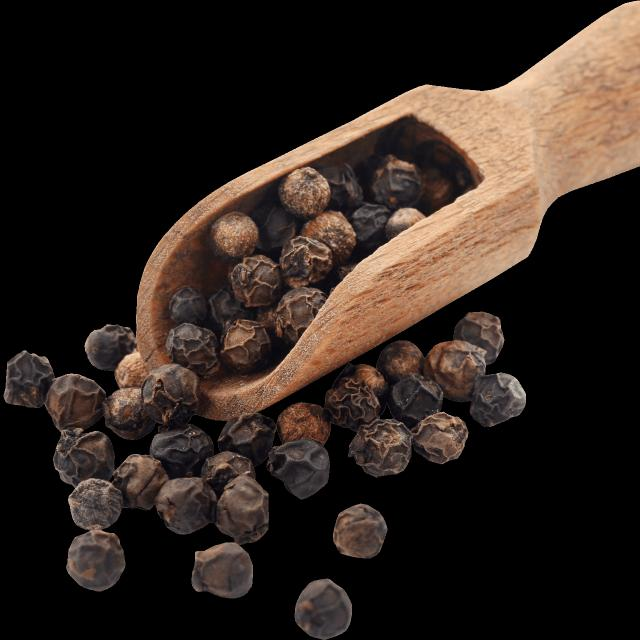Black pepper: (111, 452, 212, 538), (425, 310, 518, 393), (62, 520, 140, 605), (207, 470, 283, 547), (267, 158, 350, 228), (132, 367, 218, 433), (316, 496, 402, 562), (36, 362, 112, 435), (183, 535, 260, 605), (343, 414, 415, 488), (316, 362, 396, 428), (42, 423, 118, 492), (453, 363, 537, 425), (222, 244, 292, 318), (264, 433, 334, 507), (207, 303, 275, 370), (290, 575, 358, 640), (2, 335, 58, 412), (272, 228, 338, 292), (403, 414, 480, 468), (360, 152, 430, 210), (80, 303, 142, 367), (198, 208, 265, 265), (152, 328, 226, 378), (153, 282, 222, 332), (217, 418, 290, 465)
